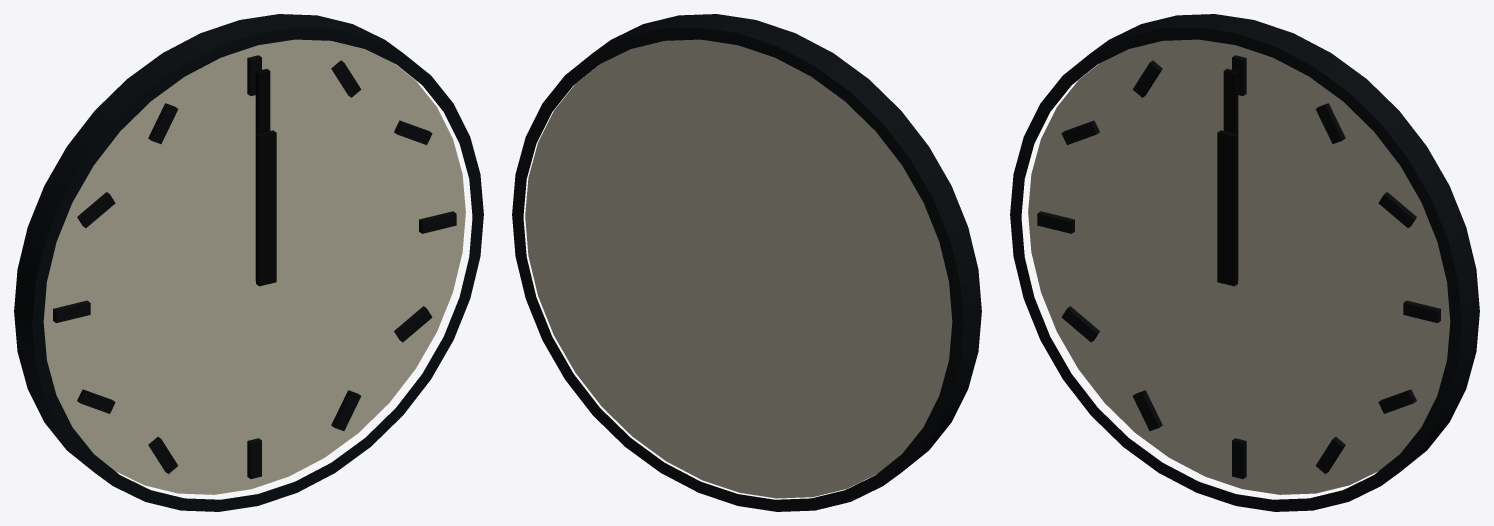
The model's file is school-wall-clock.glb.
The picture shows the model from 3 angles, left to right: view 1: azimuth 30°, elevation 25°; view 2: azimuth 150°, elevation 25°; view 3: azimuth 330°, elevation 25°; orthographic projection.
Visible parts, largest first — view 1: face__paint, rim__plastic, hand-hour__plastic, hand-min__plastic; view 2: face__paint, rim__plastic; view 3: face__paint, rim__plastic, hand-hour__plastic, hand-min__plastic.
Part boxes in pixels (<box>): face__paint: <box>43,39,465,494</box>; rim__plastic: <box>14,14,483,511</box>; hand-hour__plastic: <box>256,130,276,286</box>; hand-min__plastic: <box>255,69,270,280</box>; face__paint: <box>525,39,952,498</box>; rim__plastic: <box>512,14,981,511</box>; face__paint: <box>1028,39,1450,494</box>; rim__plastic: <box>1010,14,1479,511</box>; hand-hour__plastic: <box>1217,130,1237,286</box>; hand-min__plastic: <box>1223,69,1238,280</box>.
Bounding box in the file's own units: 0.316 × 0.316 × 0.034.
